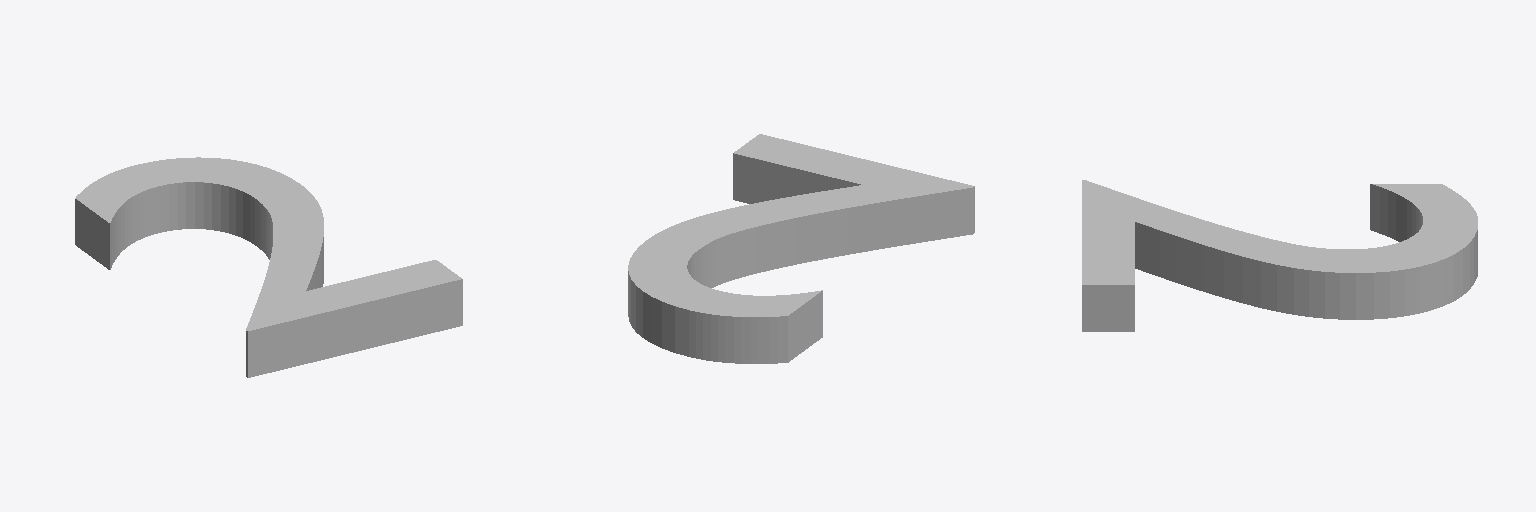
File: two.obj
3 views of the same model, side by side, from view 1: azimuth 30°, elevation 25°; view 2: azimuth 150°, elevation 25°; view 3: azimuth 270°, elevation 25° (orthographic).
Parts seen in each view (by area): view 1: Text.001; view 2: Text.001; view 3: Text.001.
Part boxes in pixels (bbox=[...]): Text.001: bbox=[75, 157, 462, 377]; Text.001: bbox=[628, 134, 974, 363]; Text.001: bbox=[1082, 180, 1477, 331].
Size of the model in its own units: 0.432 by 0.09 by 0.691.